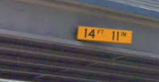1: (109, 29, 115, 42), (82, 27, 88, 39), (115, 29, 120, 43)
4: (87, 26, 96, 41)
overheadsign: (77, 25, 133, 47)
